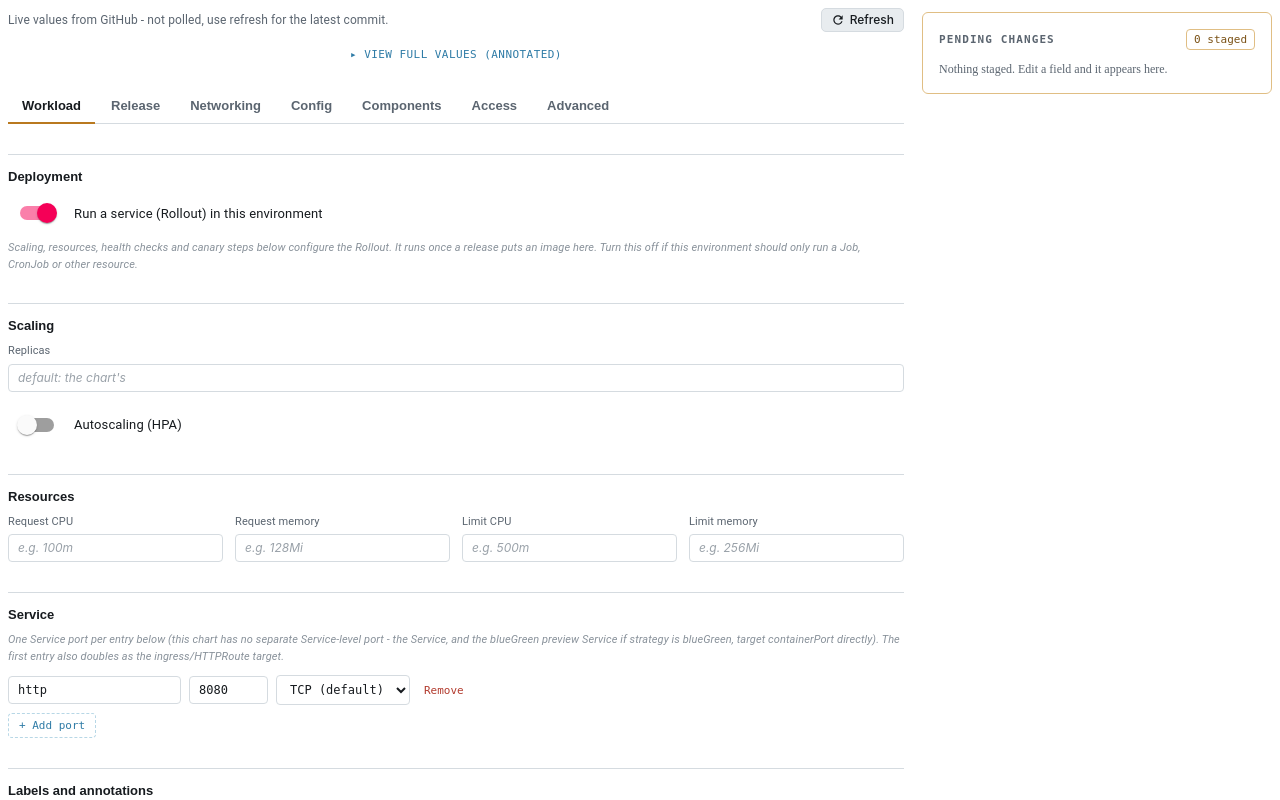
Test: values form: env values from a component › refuses a component variable with no output chosen
Click the tab "Config": (312, 107) 277,89 -> 346,124
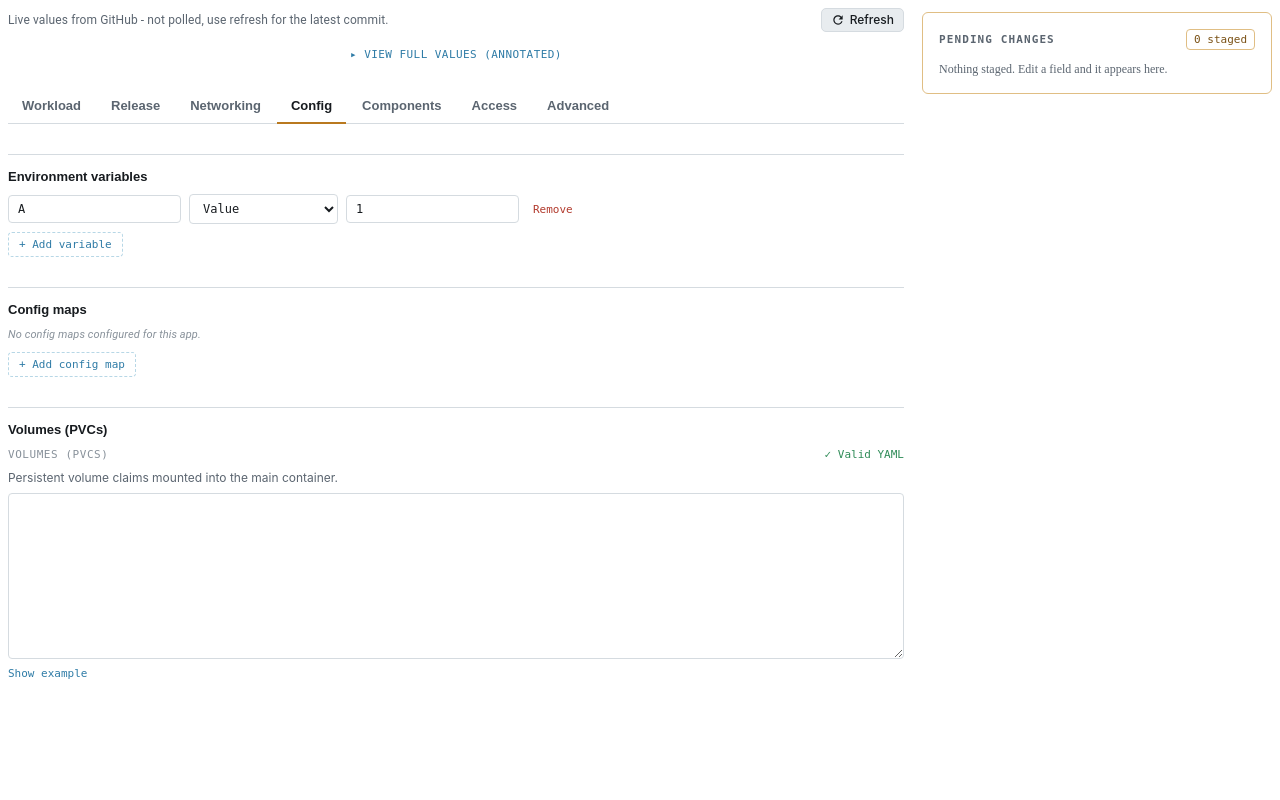
Select "From component" in the dropdown named "Variable 1 source": (264, 209) 189,194 -> 338,224
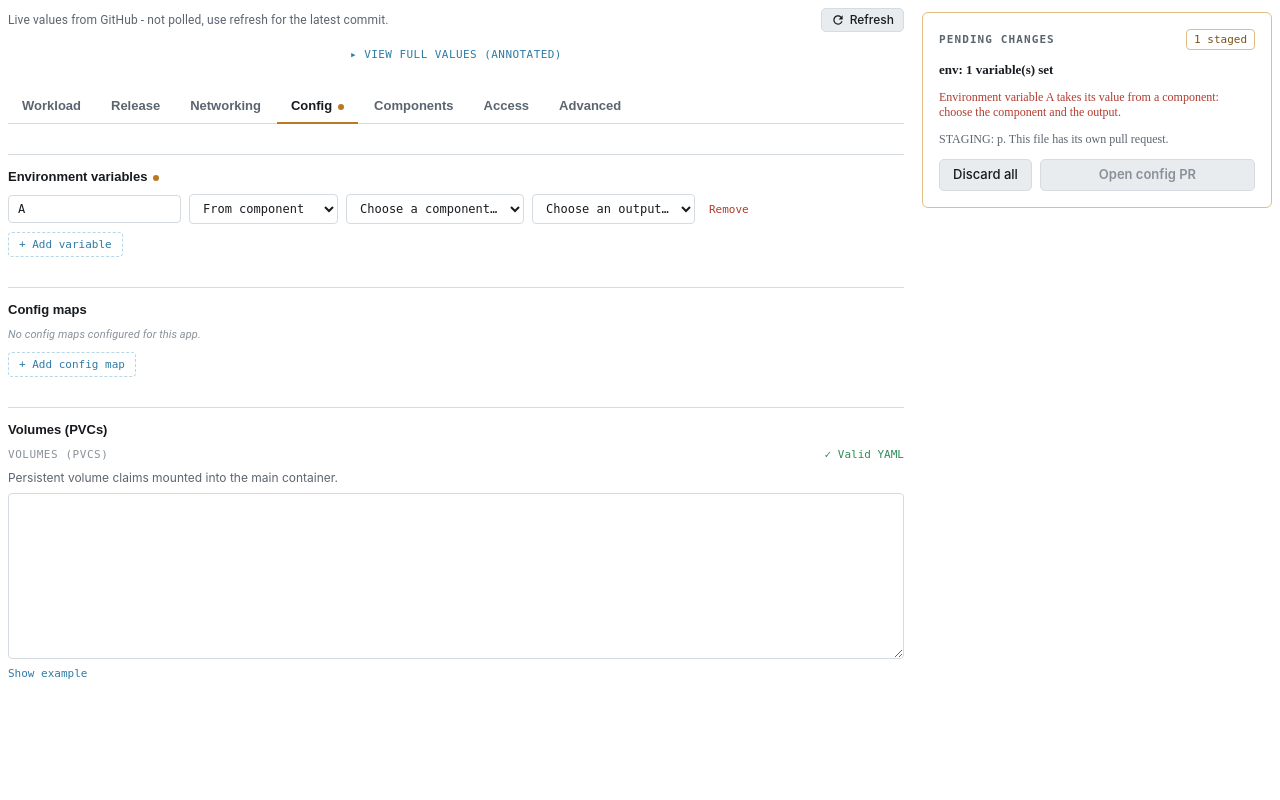
Check: the text "takes its value from a component: choose the component and the output" is shown, box 939,90 -> 1219,119
